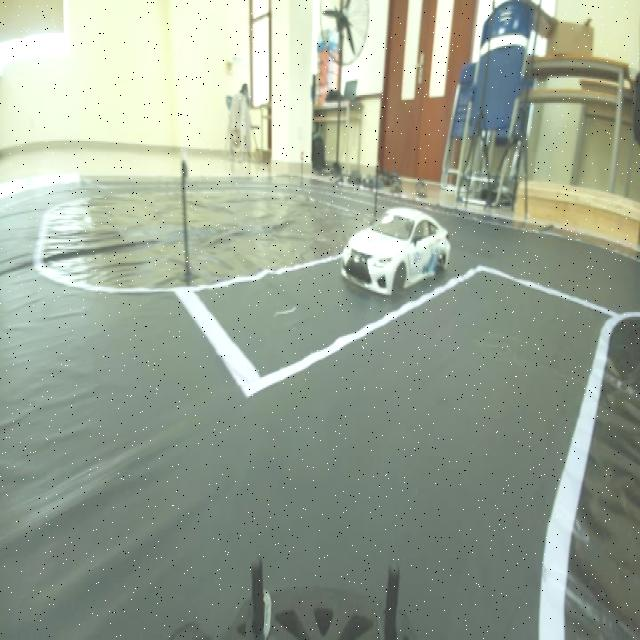car: (336, 192, 454, 305)
